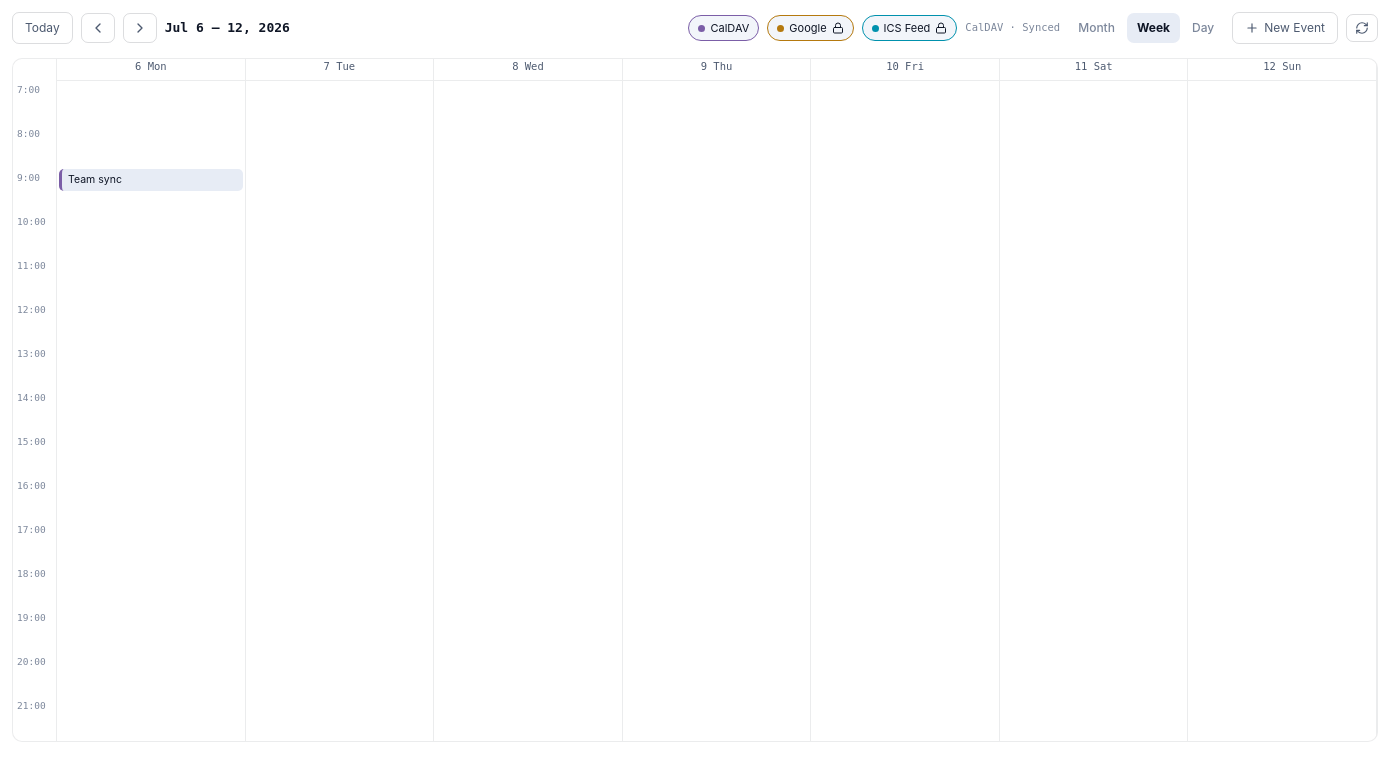
Test: CalendarPanel — 4 states + view switch + source chips + drawer › drawer: clicking a writable (caldav) event shows Delete/Duplicate/Edit
The width and height of the screenshot is (1390, 780).
What coordinates should you click on to do the following:
click the button "Team sync"
I would click on:
 (151, 180)
Its box is 59,169 -> 243,191.
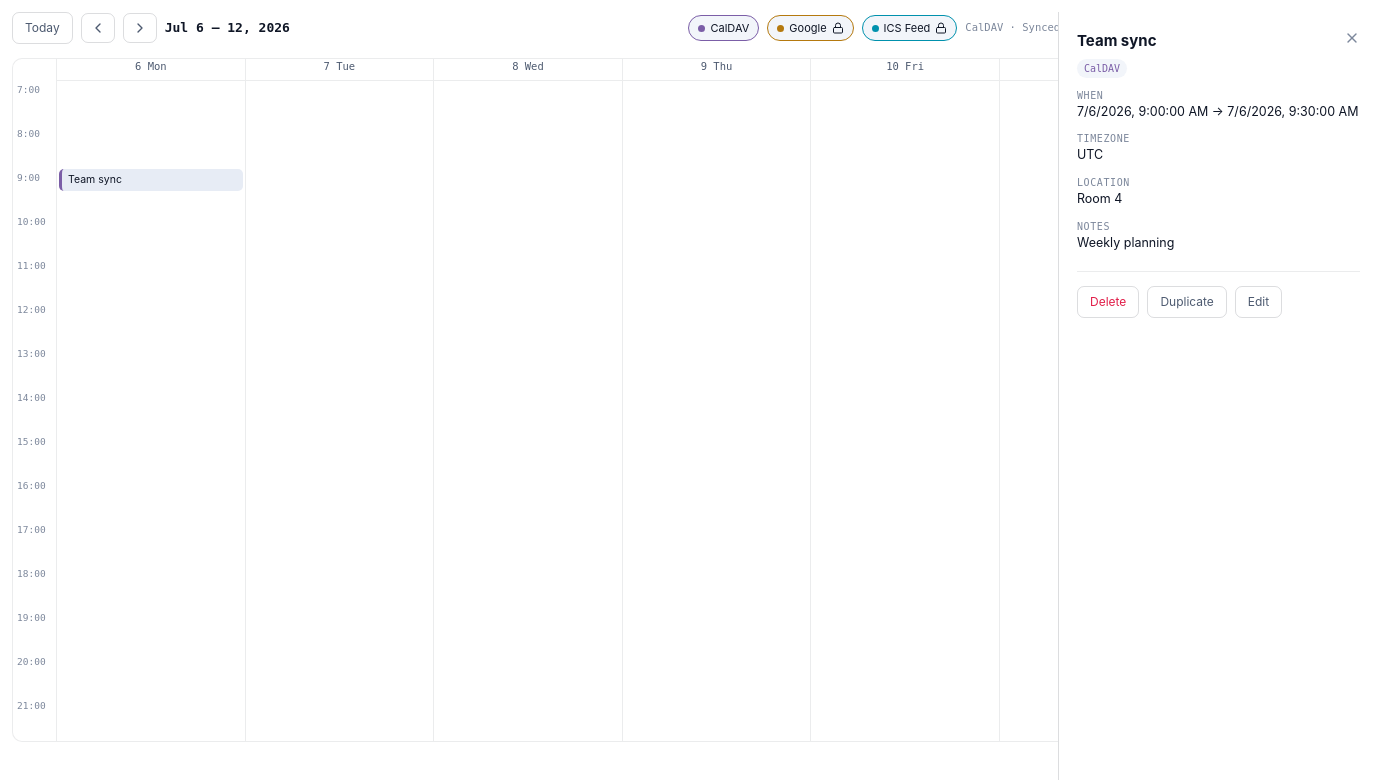
Result: the button "Delete" is shown at 1077,286 -> 1139,318
Result: the button "Duplicate" is shown at 1147,286 -> 1227,318
Result: the button "Edit" is shown at 1235,286 -> 1282,318
